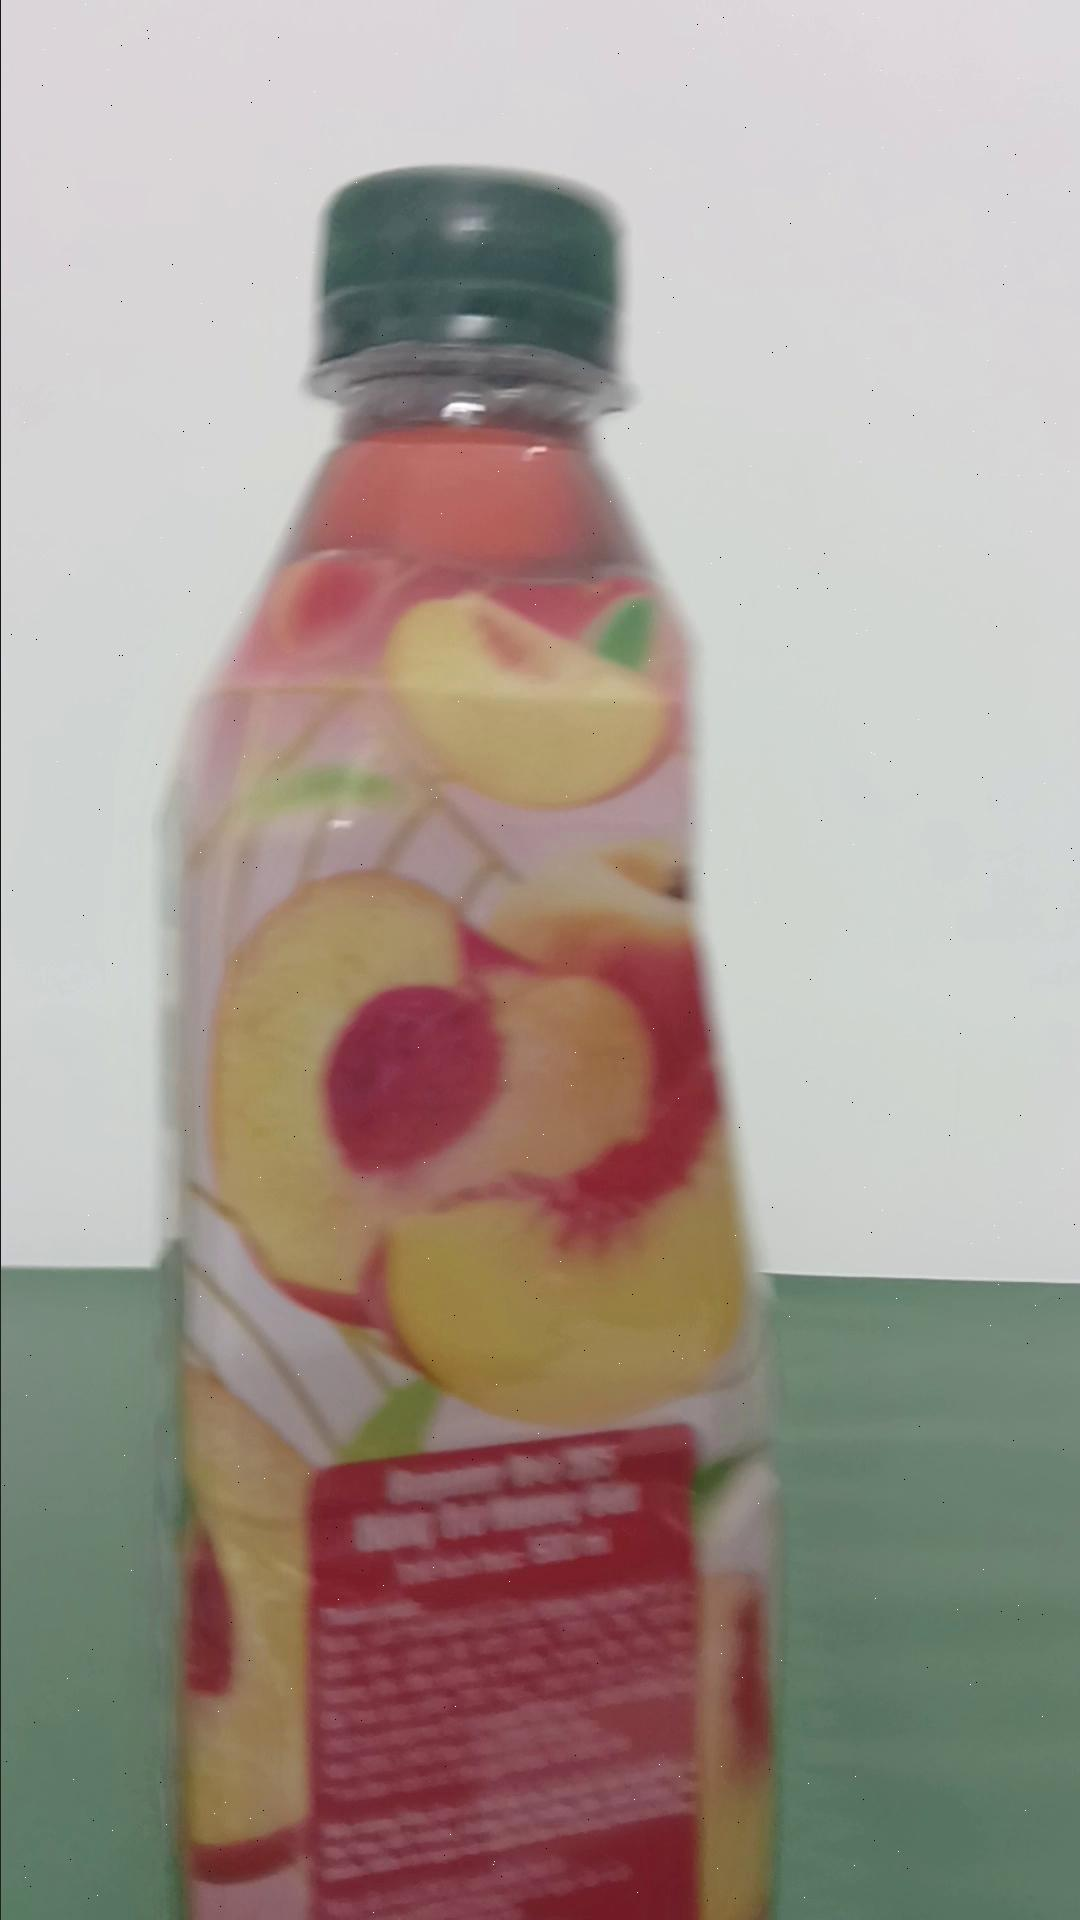loi meo sp: (165, 161, 783, 1913)
